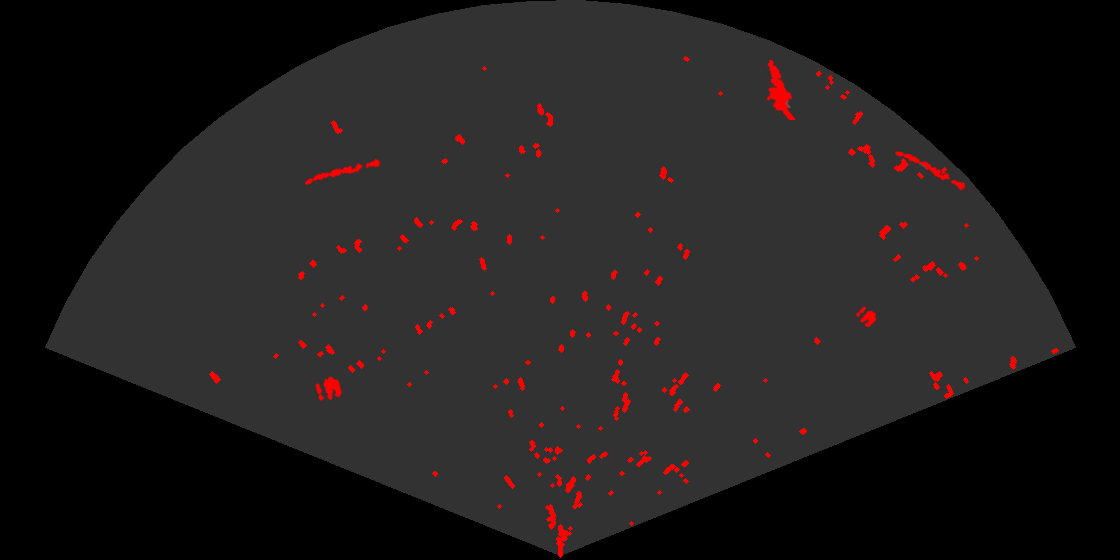ball: (314, 375, 343, 403), (854, 305, 878, 329)
chain: (893, 150, 974, 195), (302, 157, 383, 186)
frogman: (765, 58, 797, 120)
